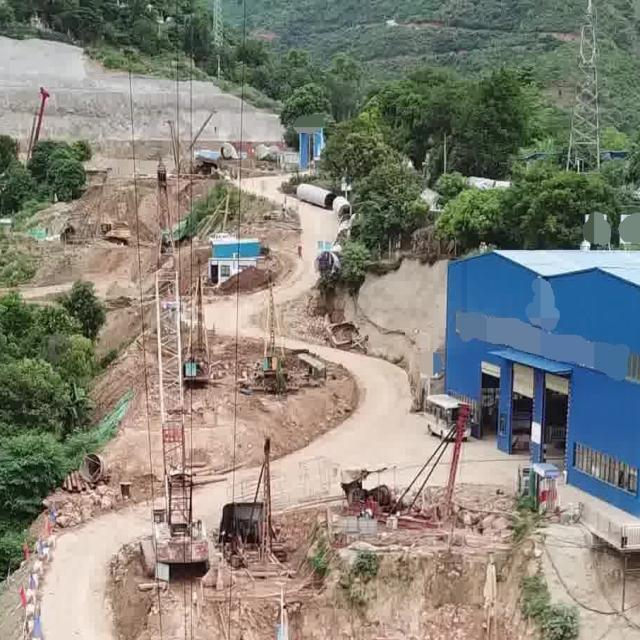crane: (137, 155, 221, 581)
